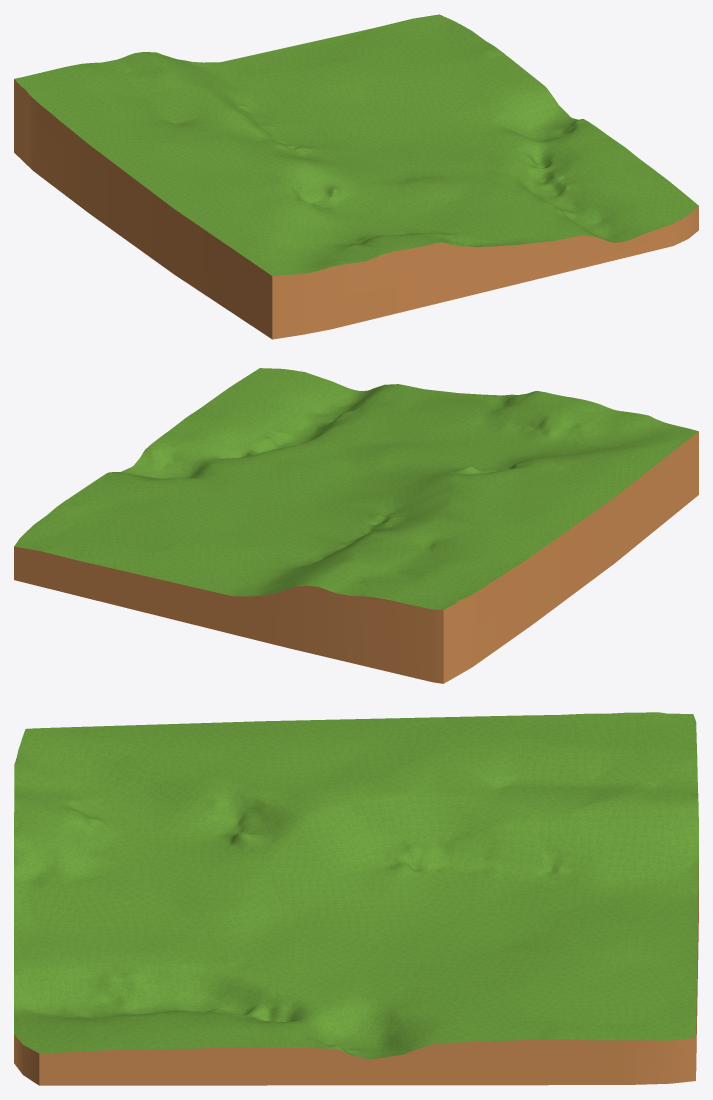
Rendered from teren.gltf.
The picture shows the model from 3 angles, top to bottom: view 1: azimuth 30°, elevation 25°; view 2: azimuth 150°, elevation 25°; view 3: azimuth 270°, elevation 25°; orthographic projection. The views are drawn at different scales.
Visible parts, largest first — view 1: root; view 2: root; view 3: root.
Boxes of the visible parts, <box> form: root: <box>14,14,698,339</box>; root: <box>14,368,698,683</box>; root: <box>14,712,698,1085</box>.
Size of the model in its own units: 68.28 by 10.91 by 70.65.
2 materials, 1 textured.
